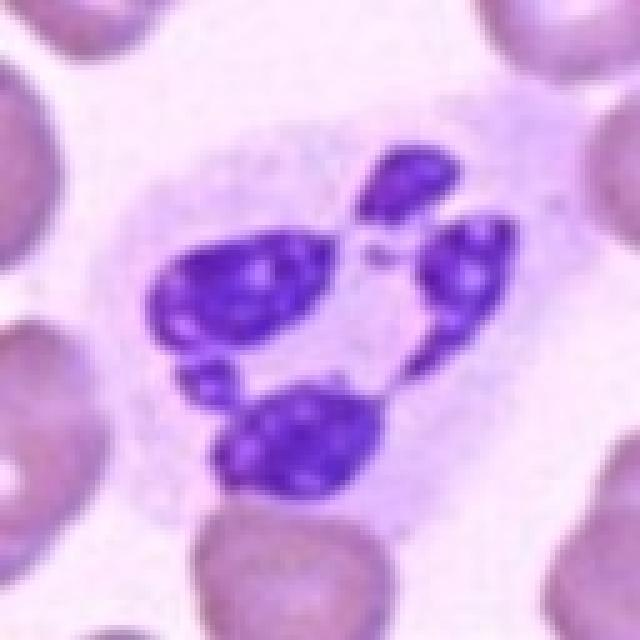neutro: (92, 169, 544, 506)
